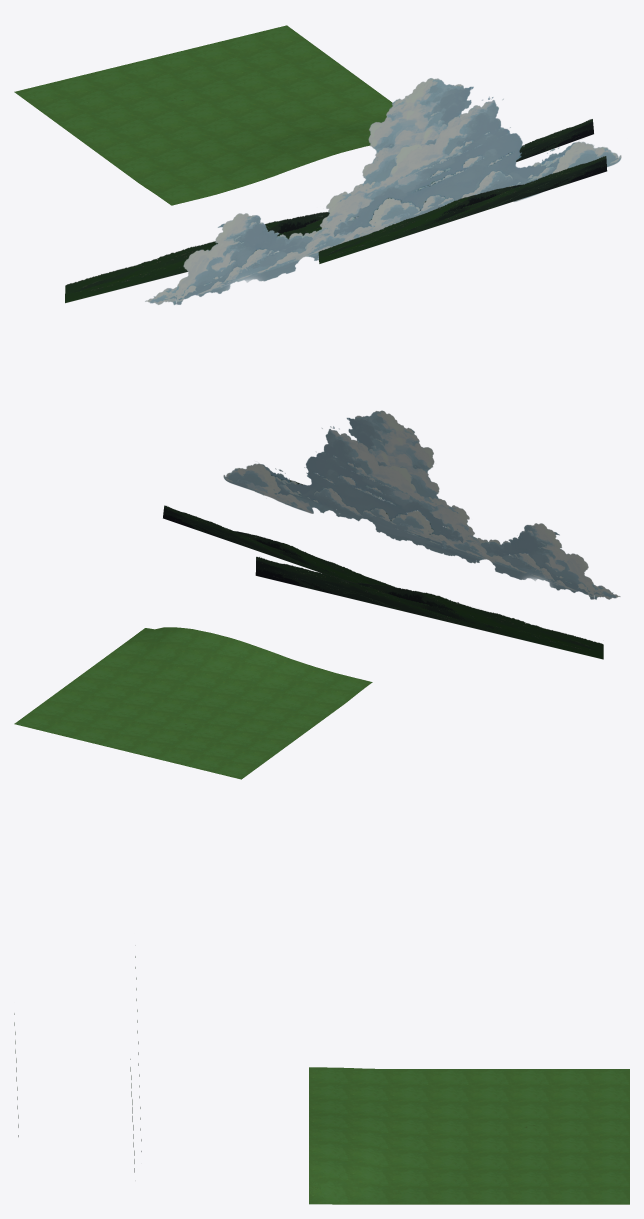
File: xiuwei.glb
3 renders of one model, top to bottom at view 1: azimuth 30°, elevation 25°; view 2: azimuth 150°, elevation 25°; view 3: azimuth 270°, elevation 25°, orthographic. The views are drawn at different scales.
Visible parts, largest first — view 1: Mesh_Terrain, x46_chrlookdev_cloud_003, x46_chrlookdev_cloud_004 (2), x46_chrlookdev_cloud_004 (1), x46_chrlookdev_cloud_004; view 2: Mesh_Terrain, x46_chrlookdev_cloud_003, x46_chrlookdev_cloud_004 (1), x46_chrlookdev_cloud_004; view 3: Mesh_Terrain.
Boxes of the visible parts, x1,y1,x2,y2 form: Mesh_Terrain: (14, 25, 392, 205); x46_chrlookdev_cloud_003: (145, 78, 621, 304); x46_chrlookdev_cloud_004 (2): (318, 156, 607, 263); x46_chrlookdev_cloud_004 (1): (65, 201, 425, 303); x46_chrlookdev_cloud_004: (306, 119, 593, 233); Mesh_Terrain: (14, 627, 372, 779); x46_chrlookdev_cloud_003: (223, 410, 620, 599); x46_chrlookdev_cloud_004 (1): (255, 556, 603, 659); x46_chrlookdev_cloud_004: (163, 505, 394, 587); Mesh_Terrain: (309, 1067, 629, 1204).
Size of the model in its own units: 58.15 by 22.75 by 57.56.
Materials: 3 (3 with a texture image).
